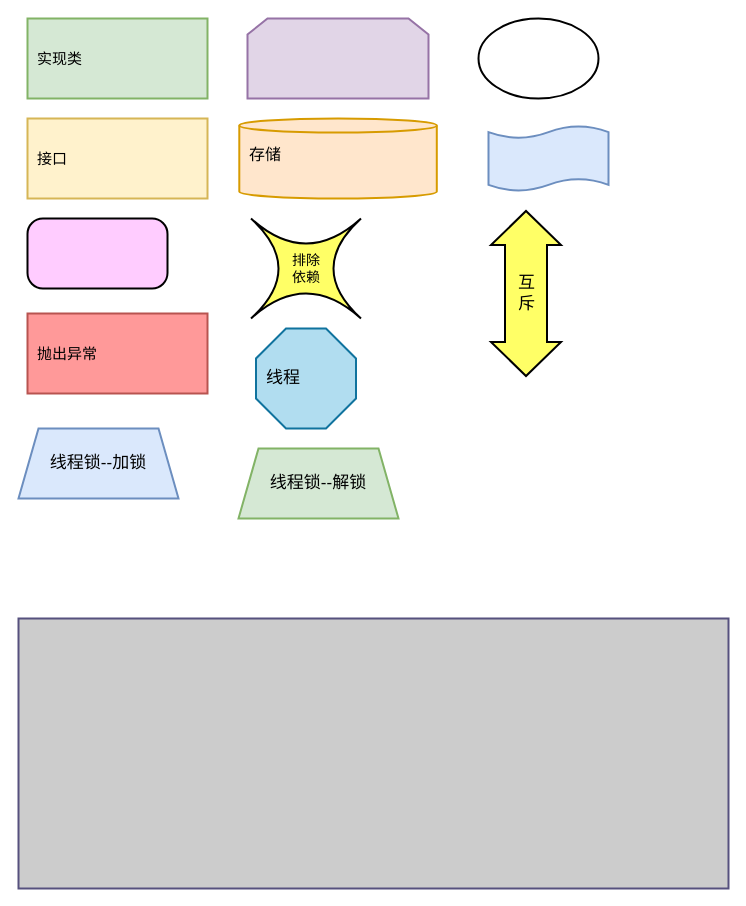
Image size: 746x906. Some labels were removed from this diagram. The shapes that lost their labels are listed below. From the top down, each one's centre as x and y in pixels, then its label:
point 337,58: 输入
point 538,58: 判断
point 548,158: 返回值
point 97,253: 扩展点
point 373,753: 区域背景
